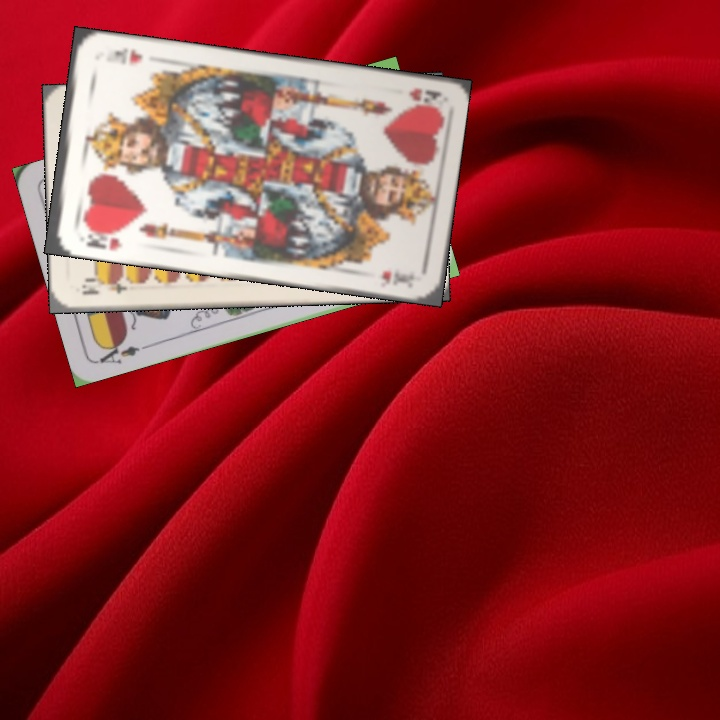E10: (77, 275, 130, 298)
EA: (94, 336, 152, 367)
HK: (81, 223, 125, 253), (405, 83, 443, 110)
